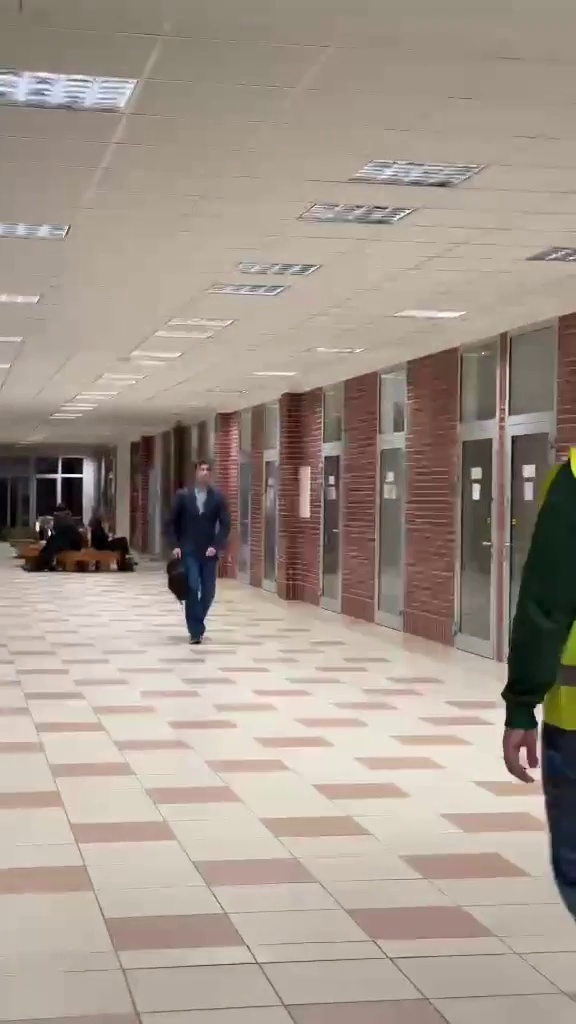no vest: (162, 462, 232, 658)
vest: (500, 430, 576, 935)
